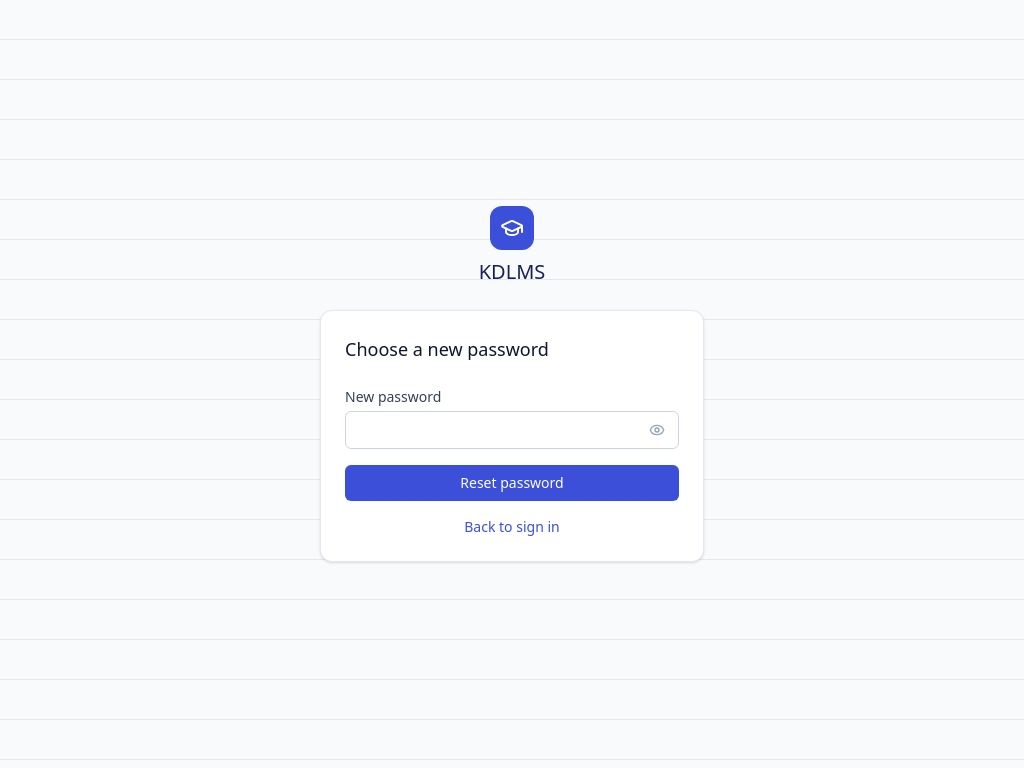
ResetPasswordPage › does not show a reset-token field and submits the token from the URL
Step 1. Type "NewPass123" into the password field labelled "New password" → (512, 430), box [345, 411, 679, 449]
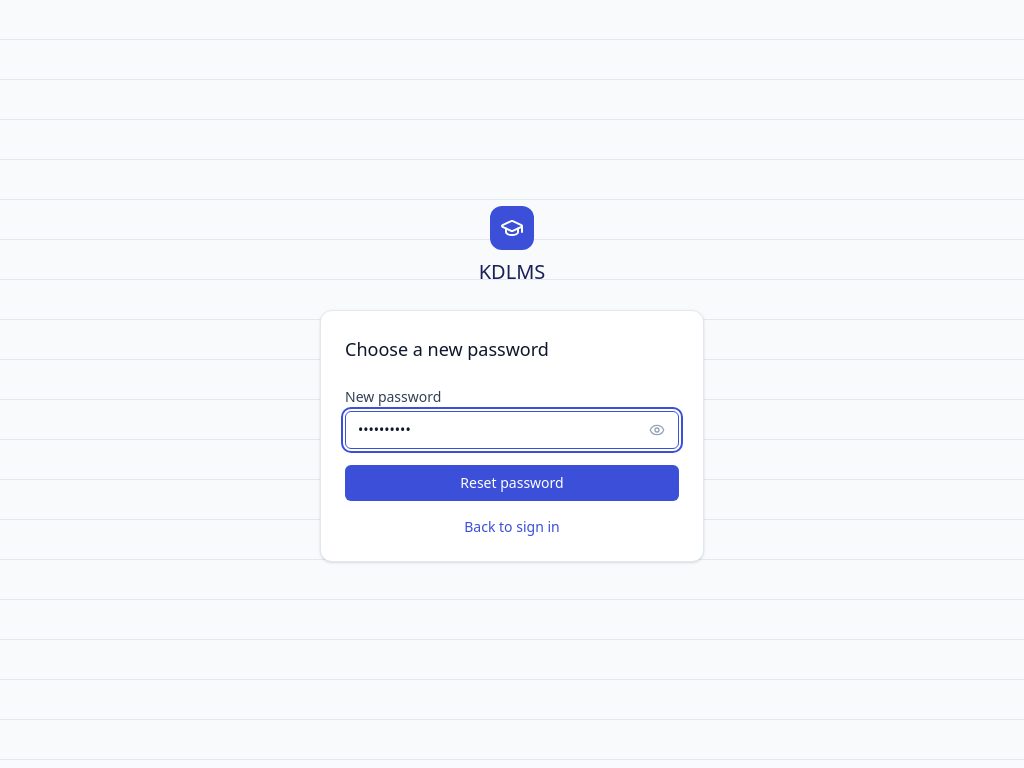
Step 2. Click the button "Reset password" → (512, 483), box [345, 465, 679, 501]
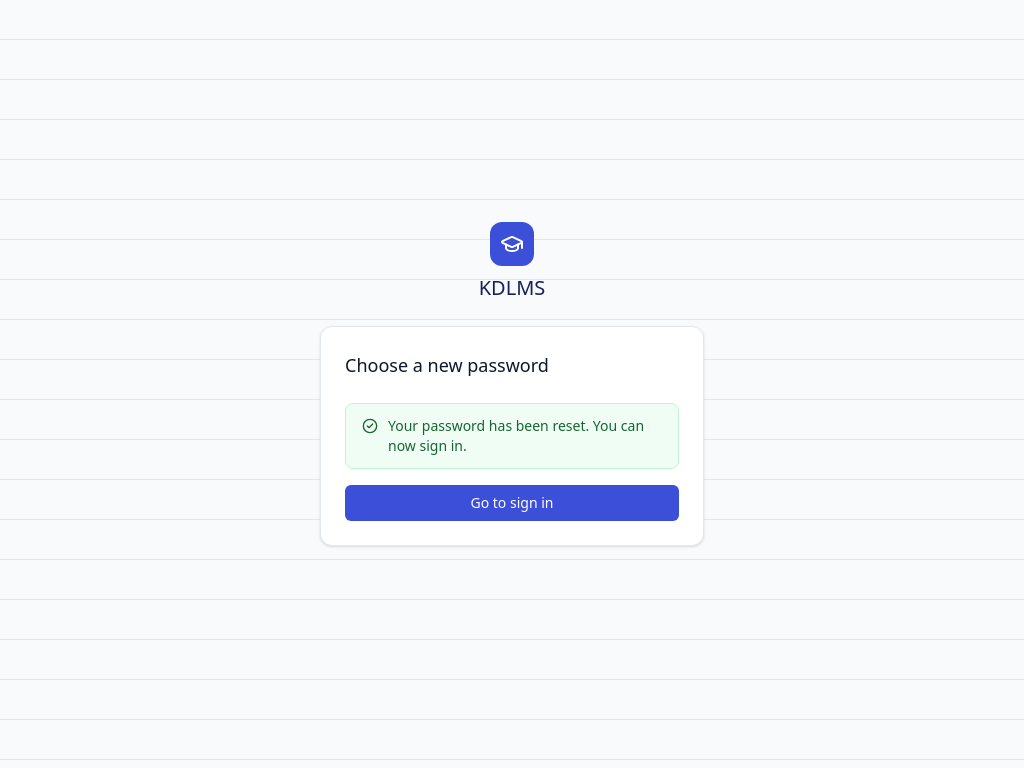
expect the text "Your password has been reset. You can now sign in." is shown: met, box [388, 416, 662, 456]
